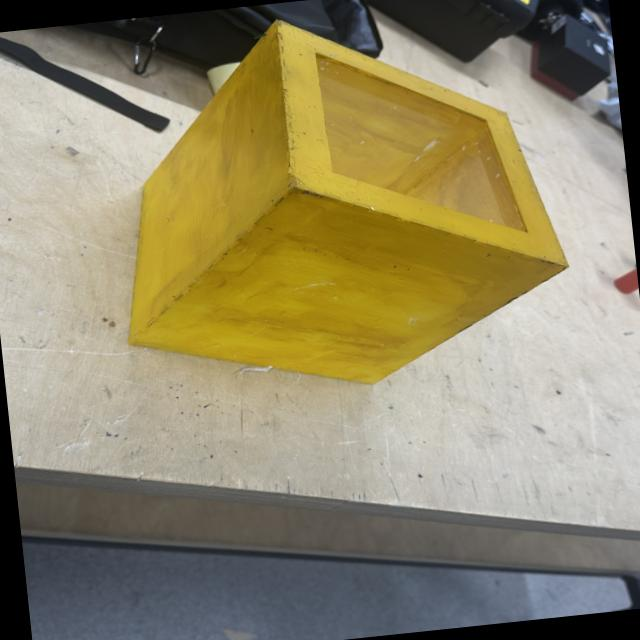yellow_bin: (95, 0, 580, 409)
